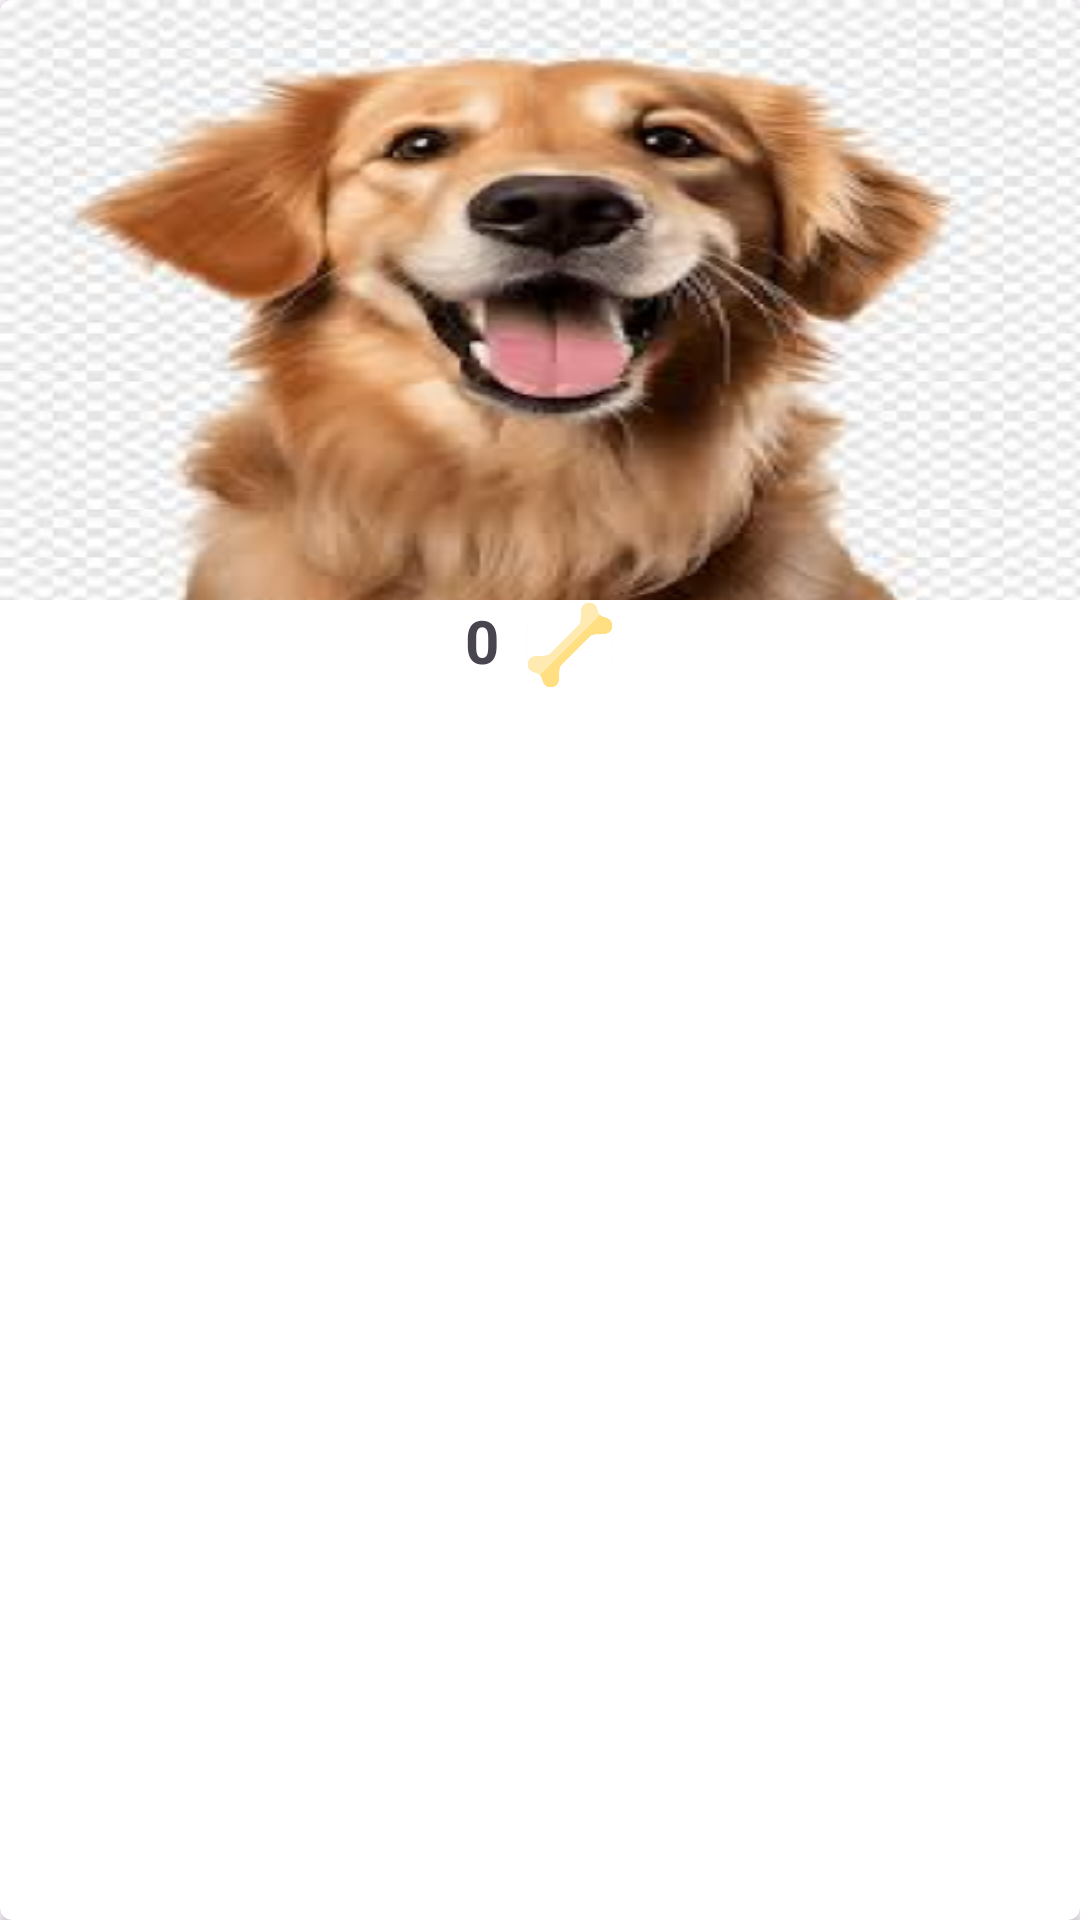

Screen size 1080×1920. Icon name, then its box in pixels as (x1, y1, x2, y2):
bone: (528, 603, 612, 687)
